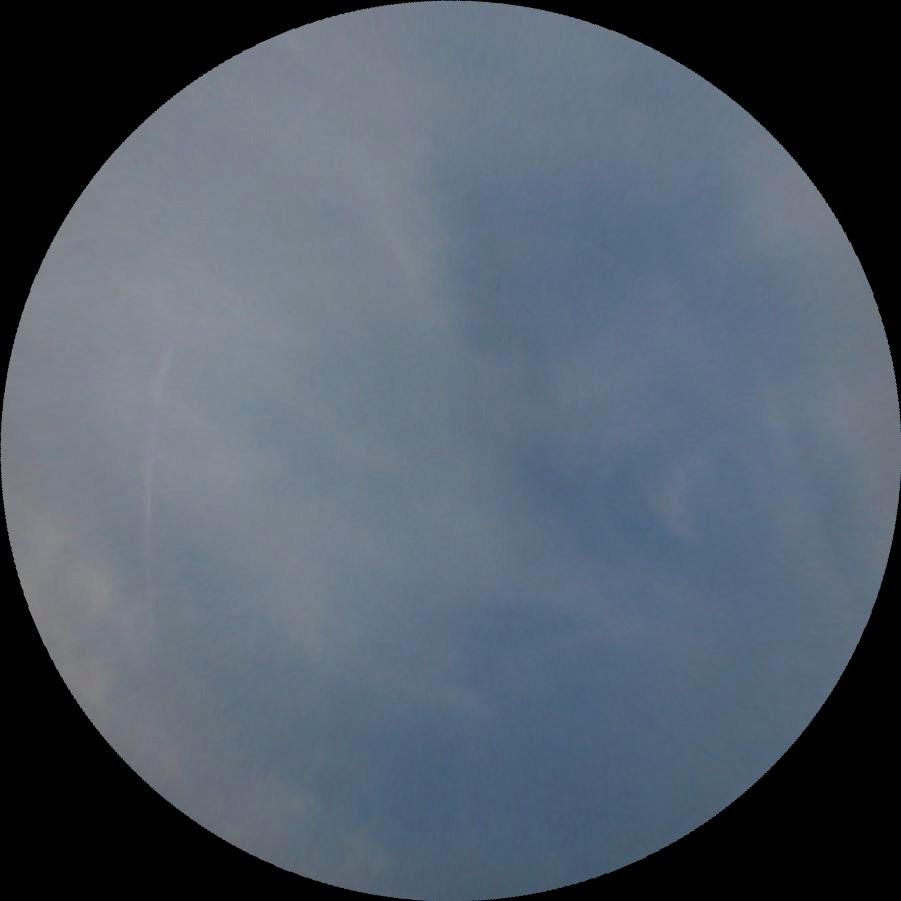contrail old: (127, 322, 188, 642)
